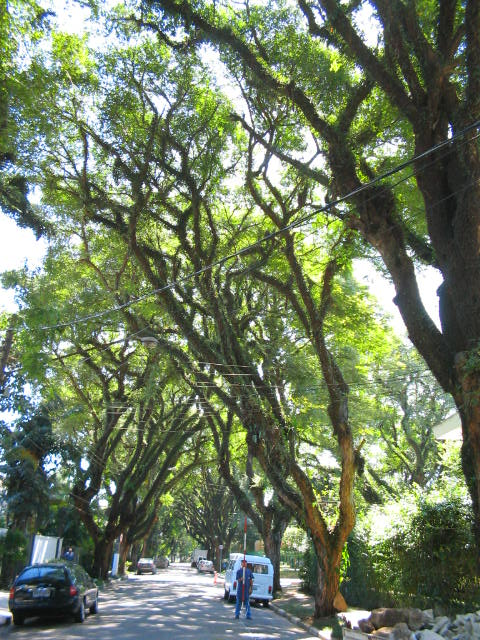stem: (307, 542, 352, 618)
stick: (232, 518, 253, 619)
tree: (71, 34, 391, 619)
